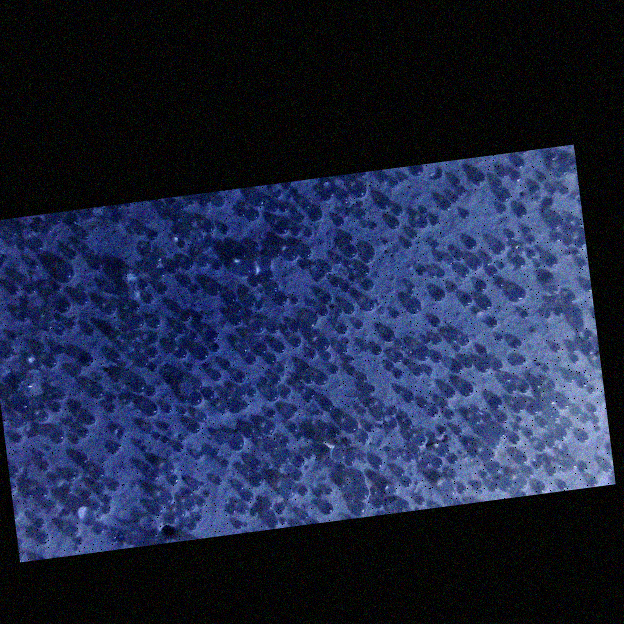GrassBeadSeg: (104, 174, 547, 497), (17, 173, 499, 432), (27, 225, 591, 443), (33, 206, 405, 528), (45, 158, 525, 404), (35, 197, 393, 520), (123, 180, 504, 470), (72, 228, 580, 443), (185, 174, 486, 531), (39, 218, 400, 515), (96, 333, 597, 544), (82, 205, 528, 425), (92, 207, 428, 494), (37, 183, 368, 471), (66, 214, 510, 423), (14, 284, 557, 454), (196, 282, 592, 515), (233, 249, 569, 515), (106, 195, 550, 395), (226, 178, 487, 515), (281, 184, 561, 497), (71, 221, 421, 454), (212, 149, 536, 399), (234, 178, 462, 513), (79, 251, 375, 500), (80, 225, 343, 494), (174, 209, 471, 445), (257, 204, 509, 470), (34, 209, 262, 499), (237, 200, 453, 506), (36, 320, 396, 491), (102, 256, 344, 505), (101, 256, 559, 386), (51, 297, 462, 436), (50, 207, 323, 413), (276, 267, 565, 460), (217, 310, 529, 486), (105, 264, 469, 403), (76, 319, 499, 438), (158, 209, 503, 353), (235, 208, 431, 461), (139, 259, 369, 474), (251, 350, 546, 515), (138, 271, 553, 383), (303, 173, 485, 422), (167, 335, 470, 484), (36, 300, 255, 501), (341, 227, 531, 457), (81, 280, 374, 424), (49, 293, 330, 443), (104, 191, 287, 413), (90, 337, 331, 504), (395, 169, 509, 508), (300, 187, 467, 416), (212, 196, 570, 302), (385, 232, 544, 469), (0, 210, 111, 546), (388, 171, 521, 451), (73, 192, 293, 358), (147, 364, 565, 451), (220, 297, 408, 487), (381, 187, 568, 375), (244, 172, 494, 307), (40, 318, 357, 422), (272, 250, 537, 374), (56, 265, 339, 374), (297, 237, 406, 520), (249, 192, 432, 360), (85, 201, 310, 336), (103, 303, 266, 487), (413, 277, 590, 445), (15, 267, 264, 386), (285, 216, 440, 407), (351, 184, 511, 362), (231, 254, 473, 369), (290, 266, 427, 467), (69, 327, 405, 408), (43, 356, 293, 464), (235, 373, 578, 451), (35, 316, 145, 545), (358, 253, 581, 363), (17, 251, 306, 335), (144, 317, 443, 396), (198, 197, 346, 355), (7, 247, 245, 341), (323, 352, 570, 440), (279, 331, 594, 399), (310, 207, 404, 433), (65, 401, 330, 480), (252, 248, 497, 332), (294, 214, 396, 415), (73, 444, 279, 543), (87, 384, 503, 431), (142, 378, 324, 478), (64, 348, 158, 538), (53, 262, 252, 348), (7, 259, 209, 341), (237, 247, 299, 513), (129, 276, 196, 510), (227, 315, 504, 371), (131, 323, 263, 438), (290, 188, 365, 382), (395, 247, 506, 377), (218, 164, 424, 234), (194, 428, 341, 522), (447, 361, 589, 458), (359, 298, 482, 406), (65, 218, 504, 248), (263, 398, 509, 447), (419, 167, 493, 319), (431, 258, 483, 468), (205, 448, 396, 504), (448, 365, 548, 463), (247, 230, 418, 287), (184, 183, 297, 269), (303, 375, 596, 408), (204, 413, 298, 509), (156, 346, 211, 502), (378, 173, 536, 227), (269, 484, 466, 527), (342, 233, 586, 267), (74, 427, 166, 516), (203, 328, 260, 471), (37, 265, 67, 535), (199, 198, 250, 354), (429, 334, 527, 415), (274, 222, 306, 461), (449, 447, 611, 493), (459, 287, 526, 397), (96, 422, 170, 517), (208, 284, 577, 303), (14, 321, 120, 387), (0, 342, 83, 424), (498, 217, 563, 317), (320, 400, 550, 428), (25, 249, 103, 330), (188, 284, 474, 306), (485, 187, 569, 261), (106, 505, 286, 538), (120, 244, 211, 309), (305, 197, 377, 276), (24, 447, 104, 517), (425, 343, 596, 375), (151, 383, 207, 480), (70, 202, 163, 258), (537, 155, 583, 268), (10, 395, 74, 476), (77, 362, 133, 452), (273, 342, 405, 379), (291, 171, 367, 235), (146, 256, 251, 302), (333, 316, 431, 365), (23, 501, 111, 554), (404, 240, 495, 291), (76, 427, 197, 464), (454, 251, 490, 373), (297, 304, 354, 372), (471, 360, 530, 423), (465, 237, 586, 267), (409, 275, 458, 346), (172, 335, 221, 405), (266, 324, 316, 392), (390, 407, 454, 459), (277, 188, 364, 225), (439, 403, 539, 435), (516, 443, 587, 488), (144, 205, 186, 272), (407, 258, 458, 313), (292, 283, 350, 331), (559, 406, 600, 472), (293, 429, 331, 497), (168, 476, 222, 523), (466, 236, 535, 272), (127, 284, 218, 311), (537, 315, 583, 367), (403, 240, 445, 296), (223, 291, 247, 383), (459, 438, 499, 493), (110, 317, 161, 360), (163, 376, 222, 413), (308, 276, 356, 320), (222, 320, 266, 368), (306, 450, 377, 479), (474, 453, 527, 490), (490, 403, 533, 447), (548, 408, 589, 454), (336, 351, 419, 373), (128, 206, 182, 239), (340, 460, 382, 502), (175, 312, 220, 351), (515, 381, 557, 422), (326, 456, 367, 494), (122, 515, 173, 545), (157, 490, 255, 505), (173, 194, 203, 242), (248, 364, 285, 401), (32, 223, 52, 288), (287, 379, 323, 415), (336, 422, 370, 459), (288, 376, 315, 414), (394, 457, 445, 477), (532, 170, 566, 200), (549, 464, 588, 489), (373, 345, 460, 354), (247, 268, 263, 316), (368, 471, 397, 497), (273, 294, 333, 306), (131, 356, 150, 392), (297, 411, 315, 438), (365, 421, 397, 431), (252, 342, 270, 349)
